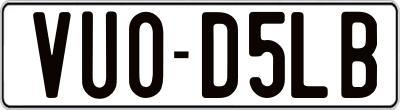0: (127, 9, 162, 97)
5: (246, 12, 284, 102)
B: (341, 12, 379, 99)
D: (199, 12, 237, 100)
L: (288, 11, 331, 101)
U: (79, 10, 118, 101)
V: (32, 10, 72, 96)
